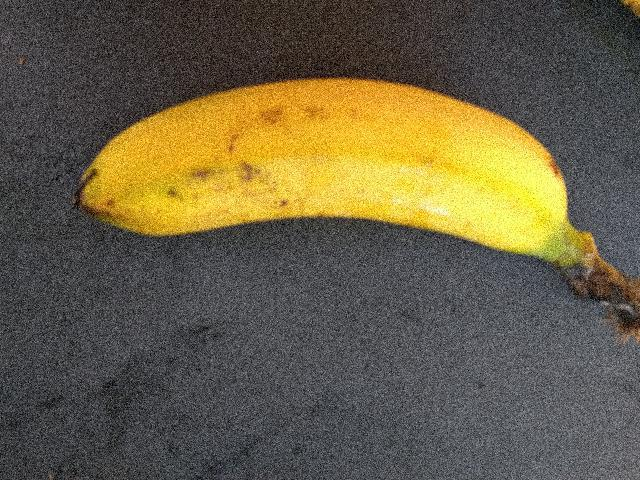ripe: (84, 57, 597, 288)
